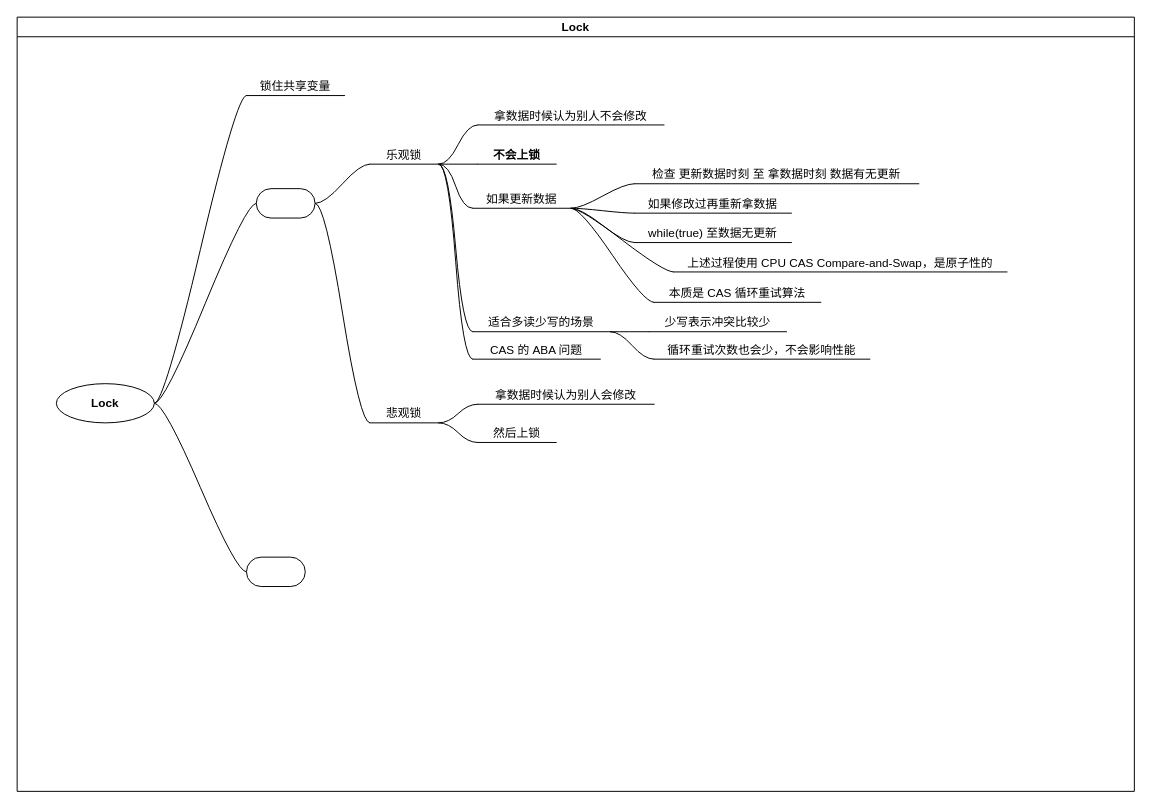
This 1152x809 diagram has some shape labels left out. Each missing label, with the centre of its shape:
分类: the point at 275,571
策略: the point at 285,203
